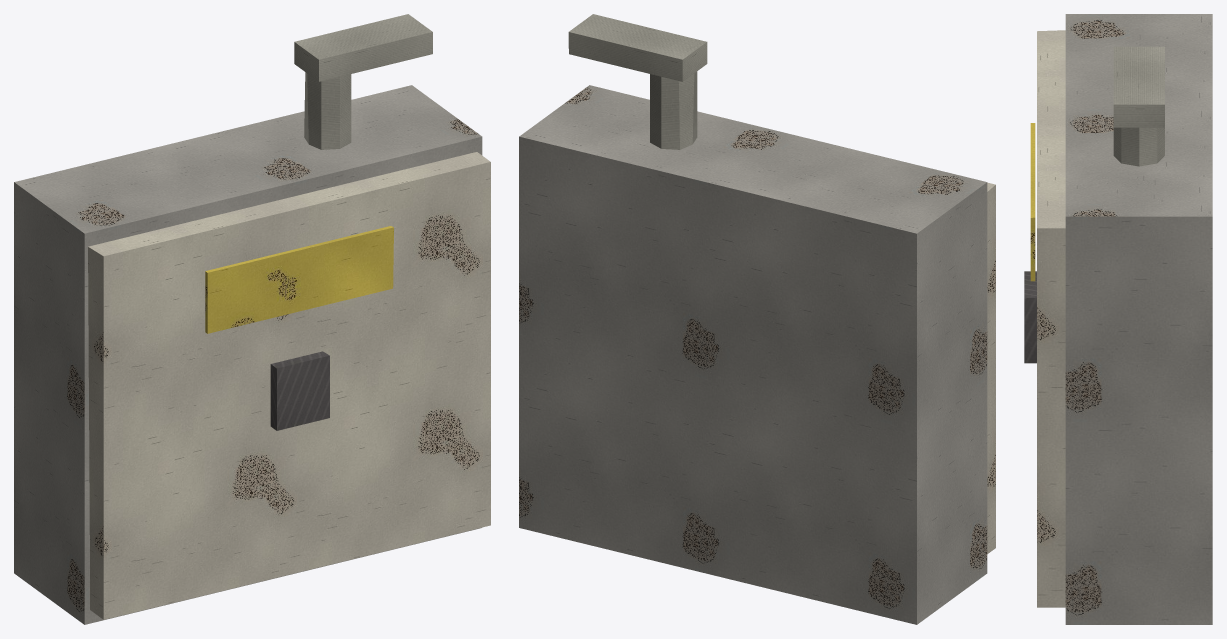
The model's file is utilbox_v2.glb.
3 views of the same model, side by side, from view 1: azimuth 30°, elevation 25°; view 2: azimuth 150°, elevation 25°; view 3: azimuth 270°, elevation 25° (orthographic). The views are drawn at different scales.
Visible parts, largest first — view 1: Variant_utilbox_2; view 2: Variant_utilbox_2; view 3: Variant_utilbox_2.
Boxes of the visible parts, x1=… form: Variant_utilbox_2: x1=14, y1=14, x2=490, y2=624; Variant_utilbox_2: x1=519, y1=14, x2=995, y2=624; Variant_utilbox_2: x1=1024, y1=14, x2=1212, y2=624.
Bounding box in the file's own units: 0.3 × 0.35 × 0.118.
Materials: 5 (5 with a texture image).
